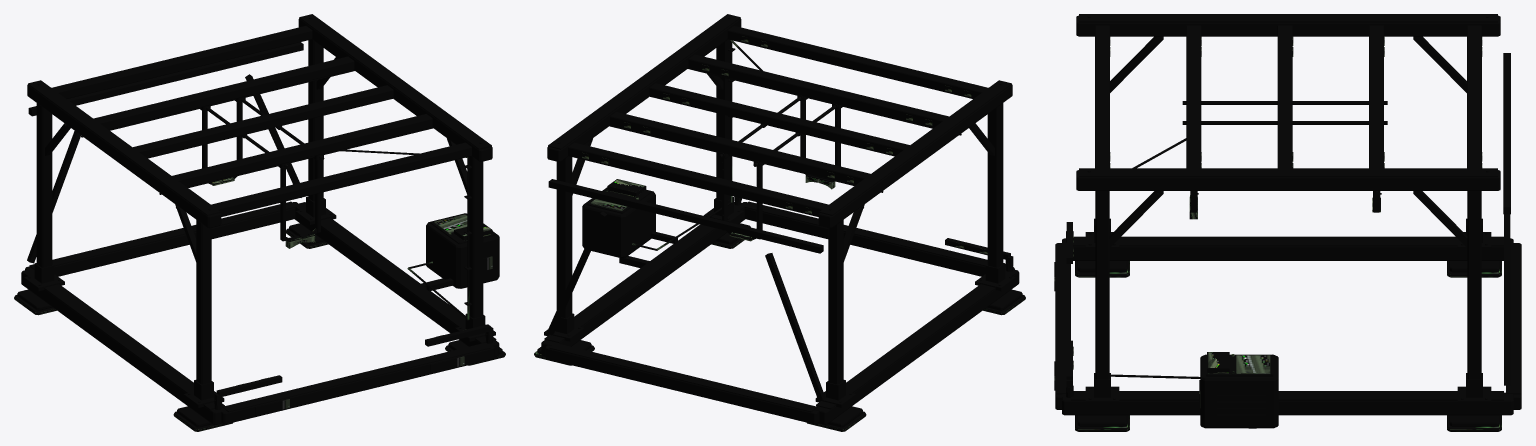
The picture shows the model from 3 angles, left to right: view 1: azimuth 30°, elevation 25°; view 2: azimuth 150°, elevation 25°; view 3: azimuth 270°, elevation 25°; orthographic projection. The views are drawn at different scales.
Parts seen in each view (by area): view 1: lp03; view 2: lp03; view 3: lp03.
Boxes of the visible parts, x1,y1,x2,y2 form: lp03: [14, 14, 505, 431]; lp03: [534, 14, 1025, 431]; lp03: [1054, 14, 1521, 431].
Bounding box in the file's own units: 4.64 × 2.64 × 4.47.
